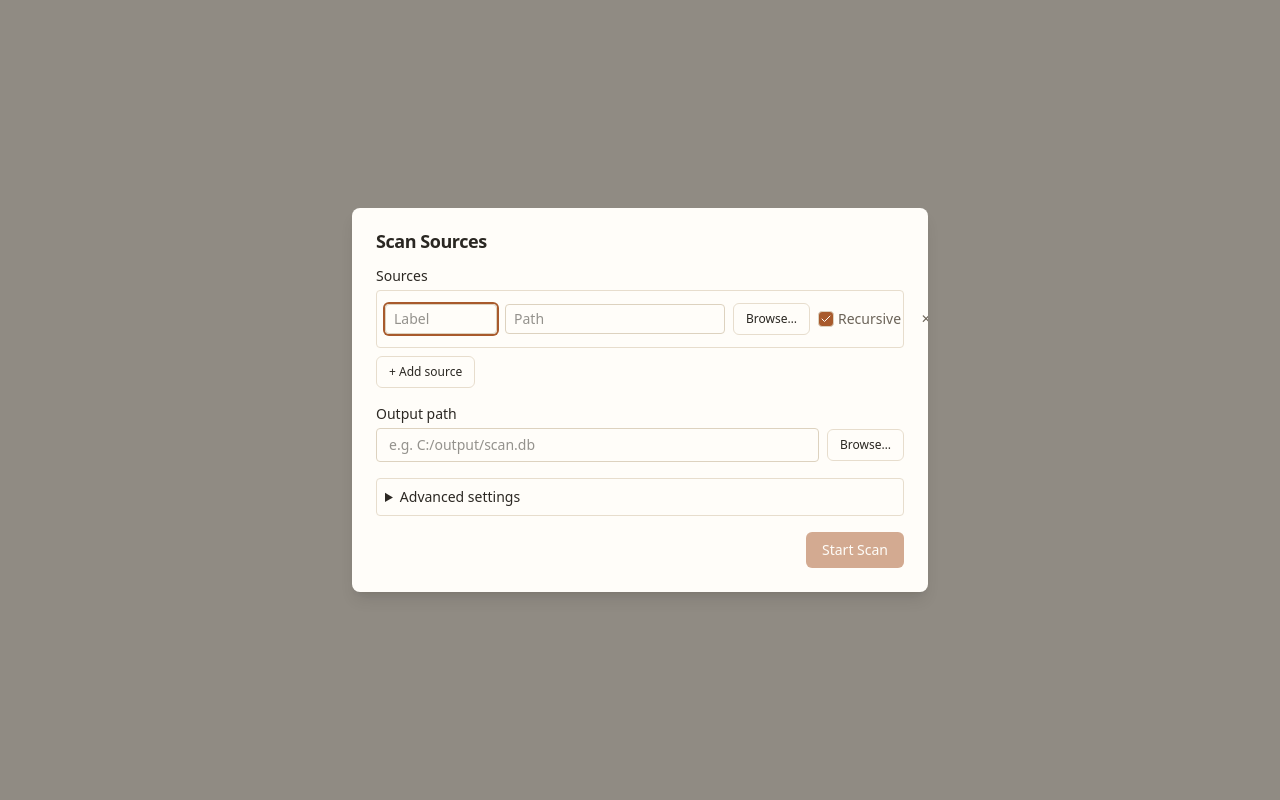
Test case: ScanDialog › opens the rescan-confirm gate instead of scanning when decisions are pending
Type "Pics" into the field named "source label" at [441, 319], box [385,304,497,334]
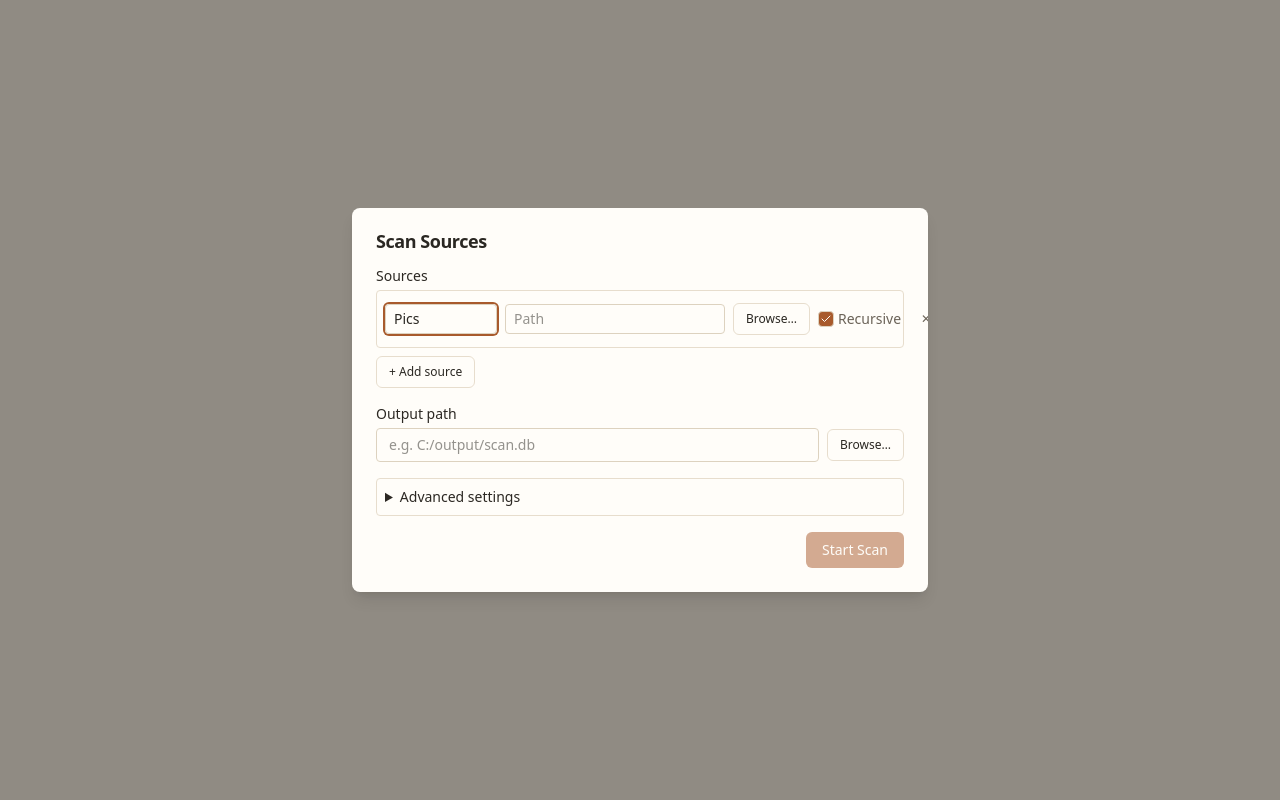
Type "D:/pics" into the field named "source path" at [615, 319], box [505,304,725,334]
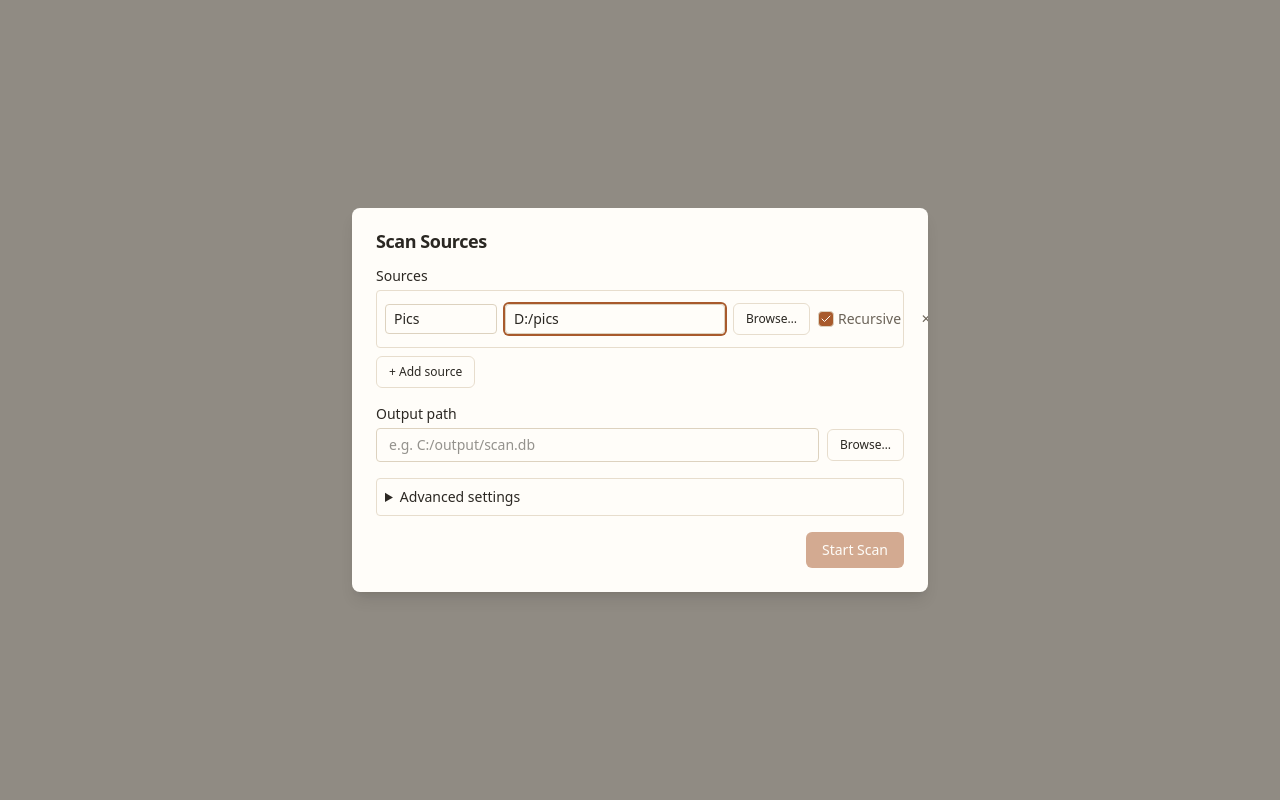
Type "D:/out.db" into the field with test id "scan-output-path" at [598, 445], box [376,428,819,462]
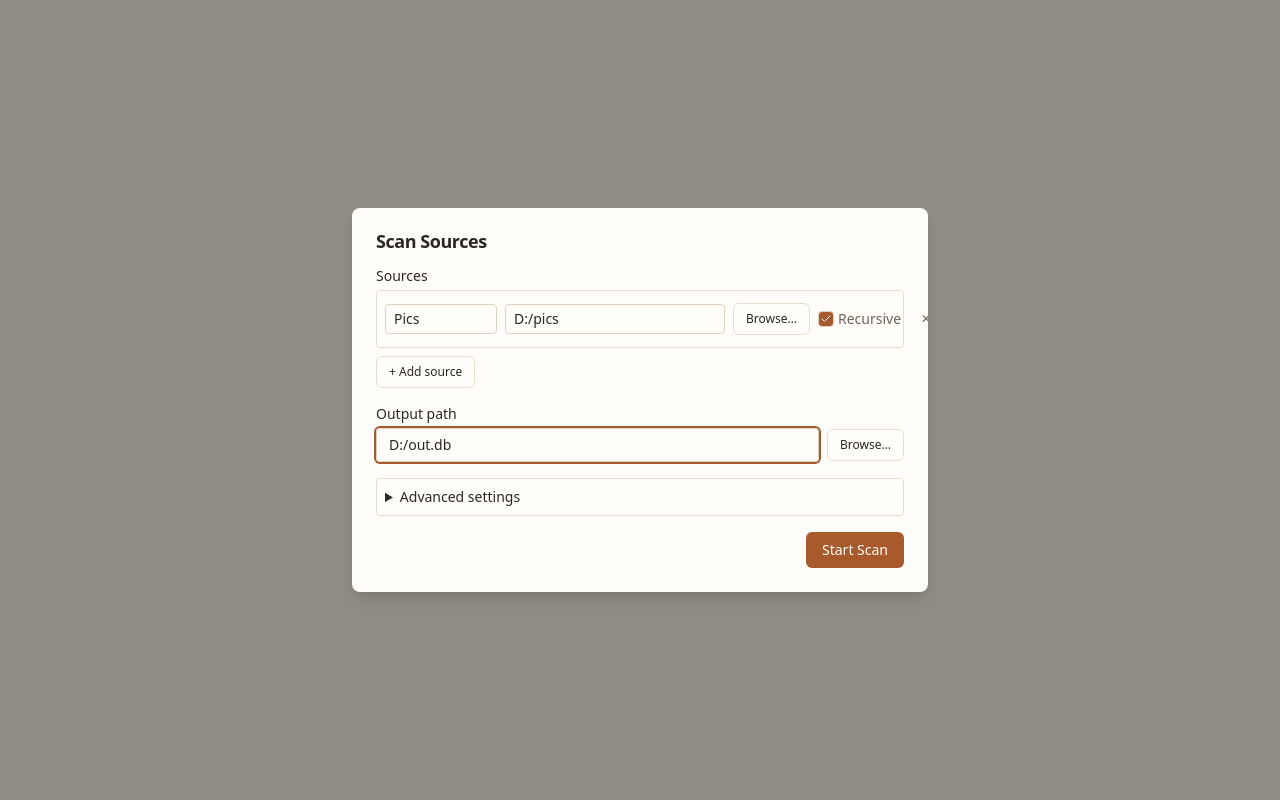
Click the button with test id "scan-start-button" at [855, 550], box [806,532,904,568]
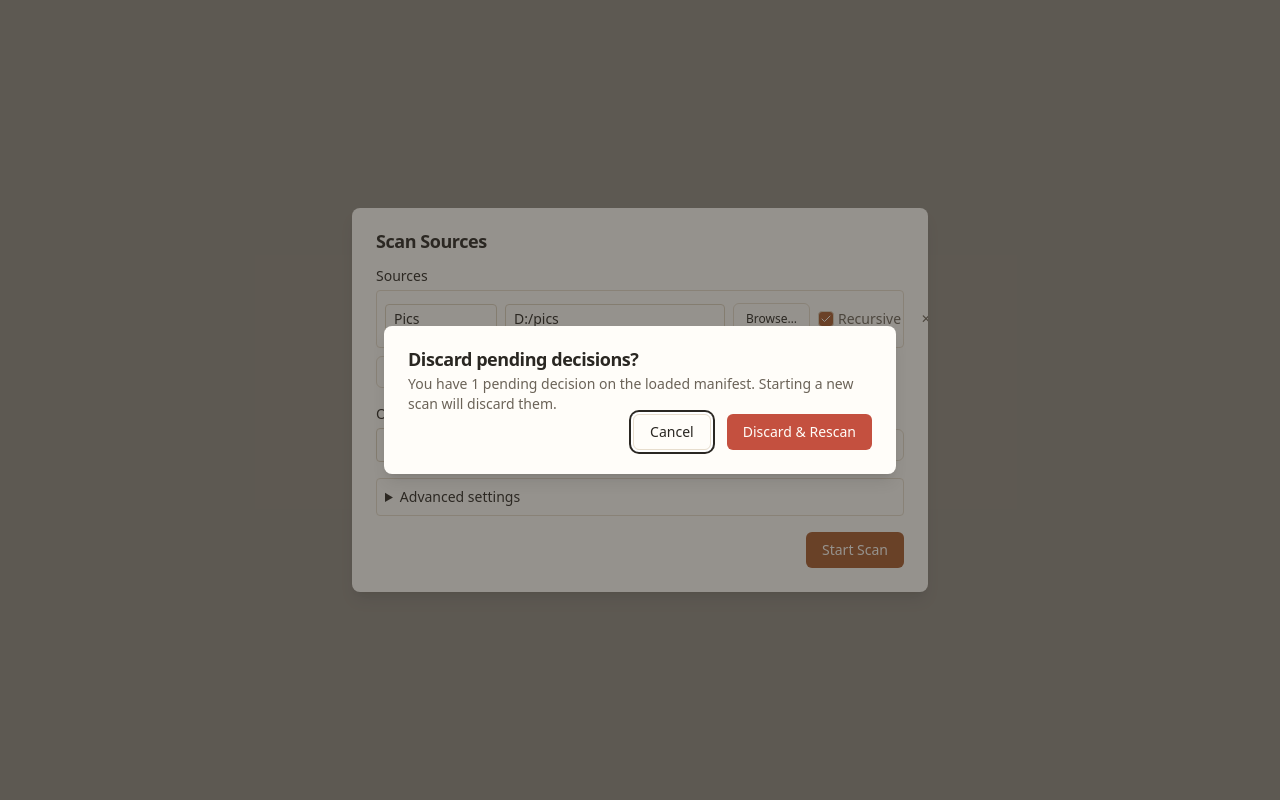
Expected: the dialog with test id "scan-rescan-confirm-dialog" is shown, [384,326,896,474]
Expected: the dialog with test id "scan-rescan-confirm-dialog" shows "1 pending decision", [408,374,854,413]
